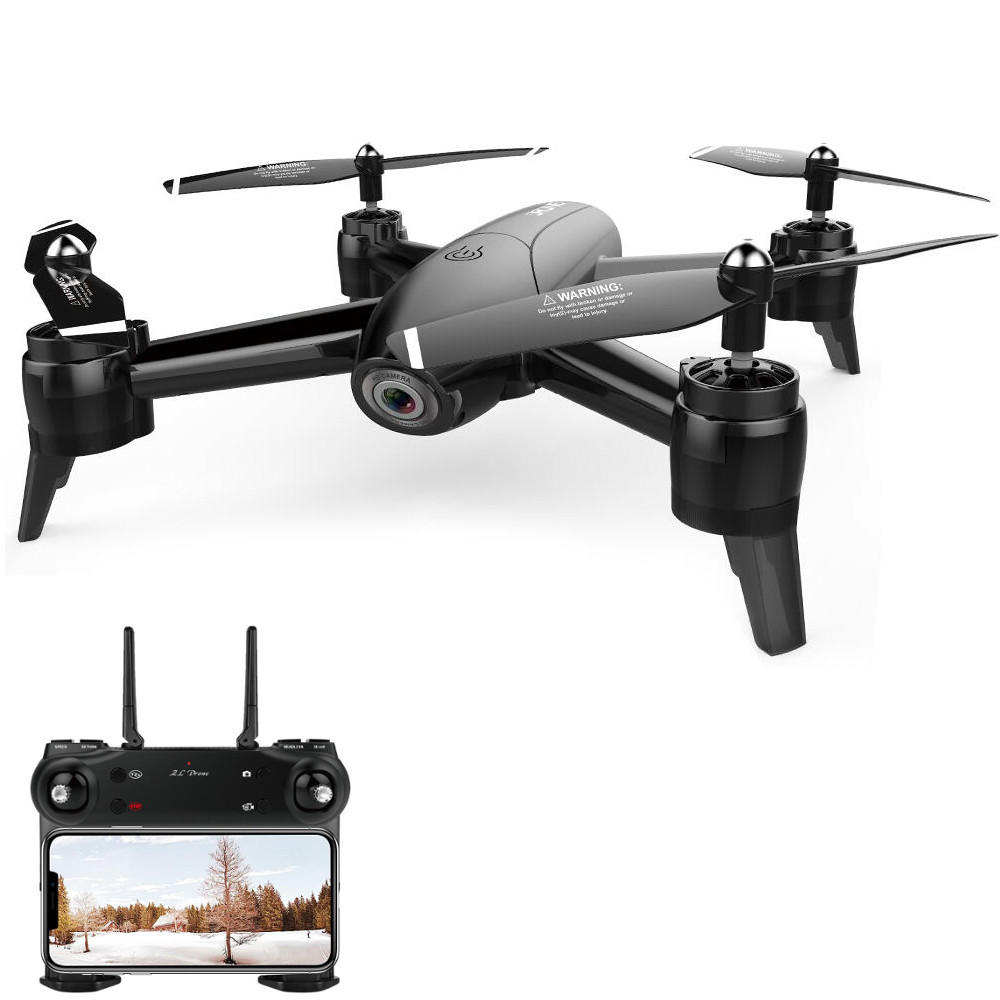drone: (16, 128, 1000, 659)
